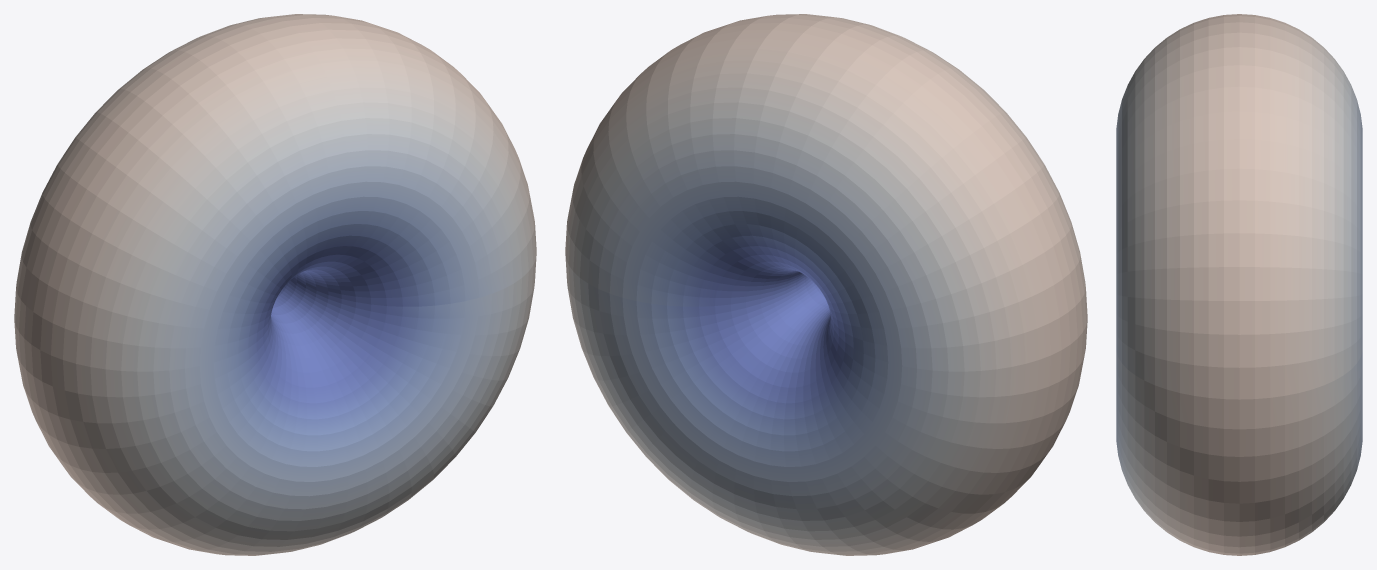
3 renders of one model, left to right at view 1: azimuth 30°, elevation 25°; view 2: azimuth 150°, elevation 25°; view 3: azimuth 270°, elevation 25°, orthographic. The views are drawn at different scales.
Visible parts, largest first — view 1: world; view 2: world; view 3: world.
Part boxes in pixels (<box>): world: <box>14,14,536,555</box>; world: <box>565,14,1087,555</box>; world: <box>1116,14,1362,555</box>.
Size of the model in its own units: 19.6 by 19.56 by 8.92.
